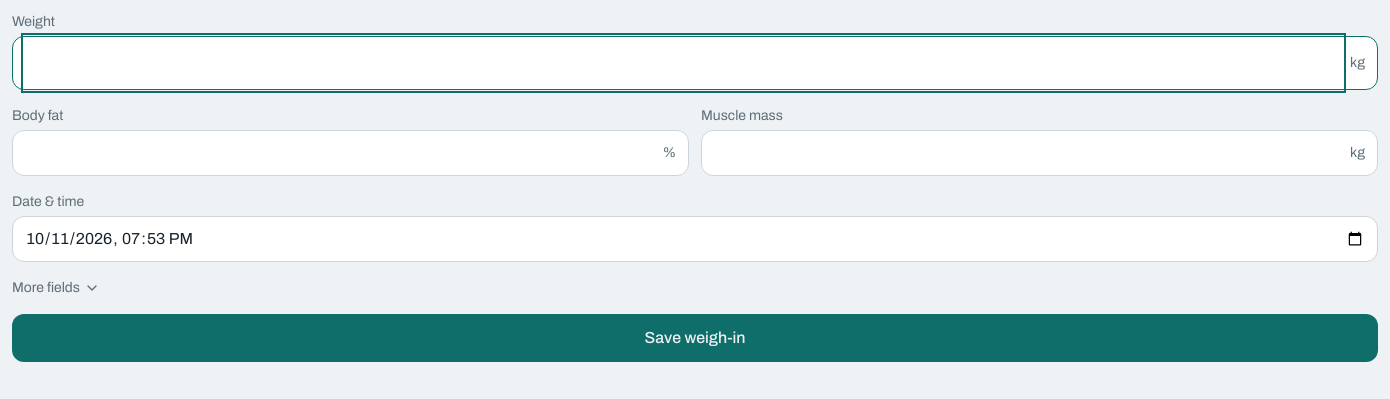
Test: WeighInForm › requires weight
Step 1. Click the button "Save weigh-in" → (695, 338), box [12, 314, 1378, 362]
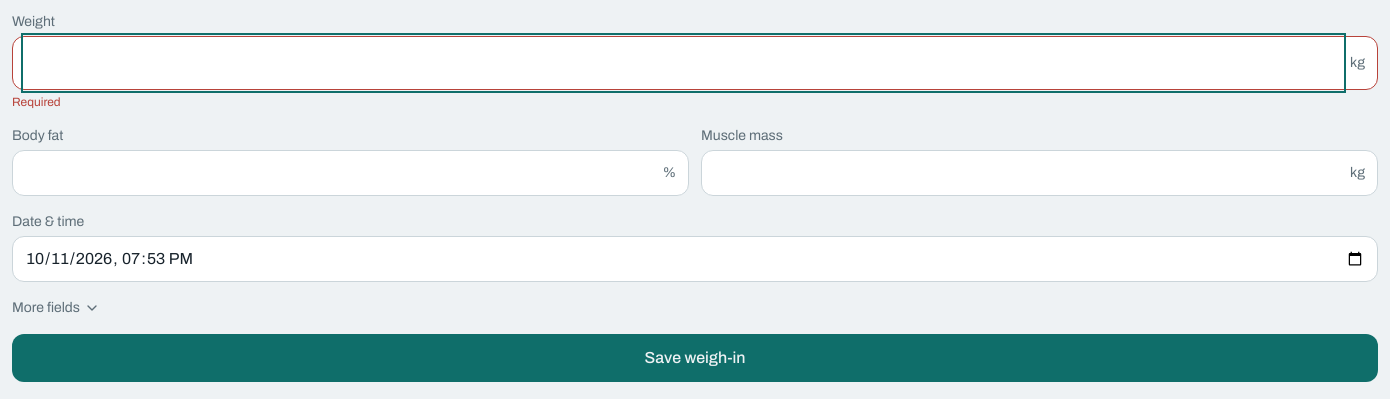
Now the text "Required" is shown, box [12, 95, 61, 109]
